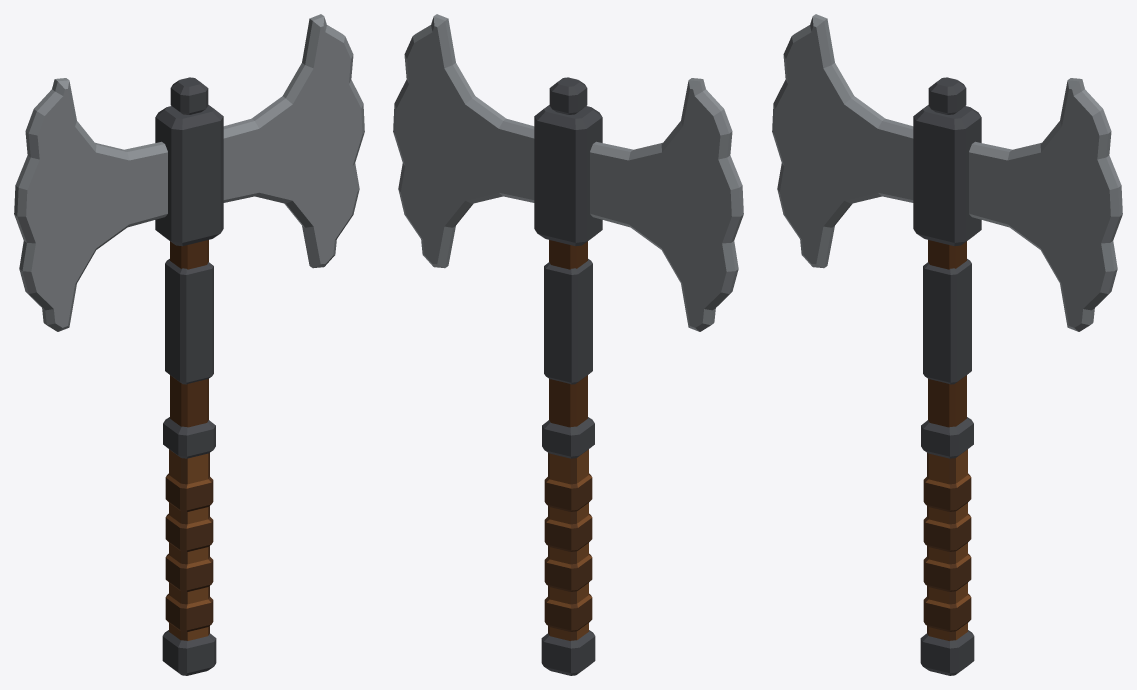
File: chopper_axe.fbx
The picture shows the model from 3 angles, left to right: view 1: azimuth 30°, elevation 25°; view 2: azimuth 150°, elevation 25°; view 3: azimuth 330°, elevation 25°; orthographic projection.
Parts seen in each view (by area): view 1: chopper_axe; view 2: chopper_axe; view 3: chopper_axe.
Boxes of the visible parts, left/top/right/bottom form: chopper_axe: left=14, top=14, right=364, bottom=675; chopper_axe: left=393, top=14, right=743, bottom=675; chopper_axe: left=772, top=14, right=1122, bottom=675.
Bounding box in the file's own units: 0.5 × 0.8524 × 0.06.
